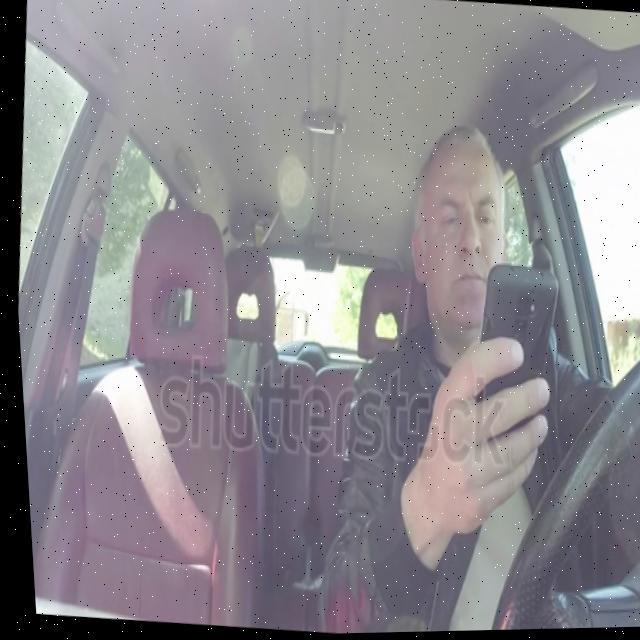PhoneCall: (454, 264, 566, 494)
